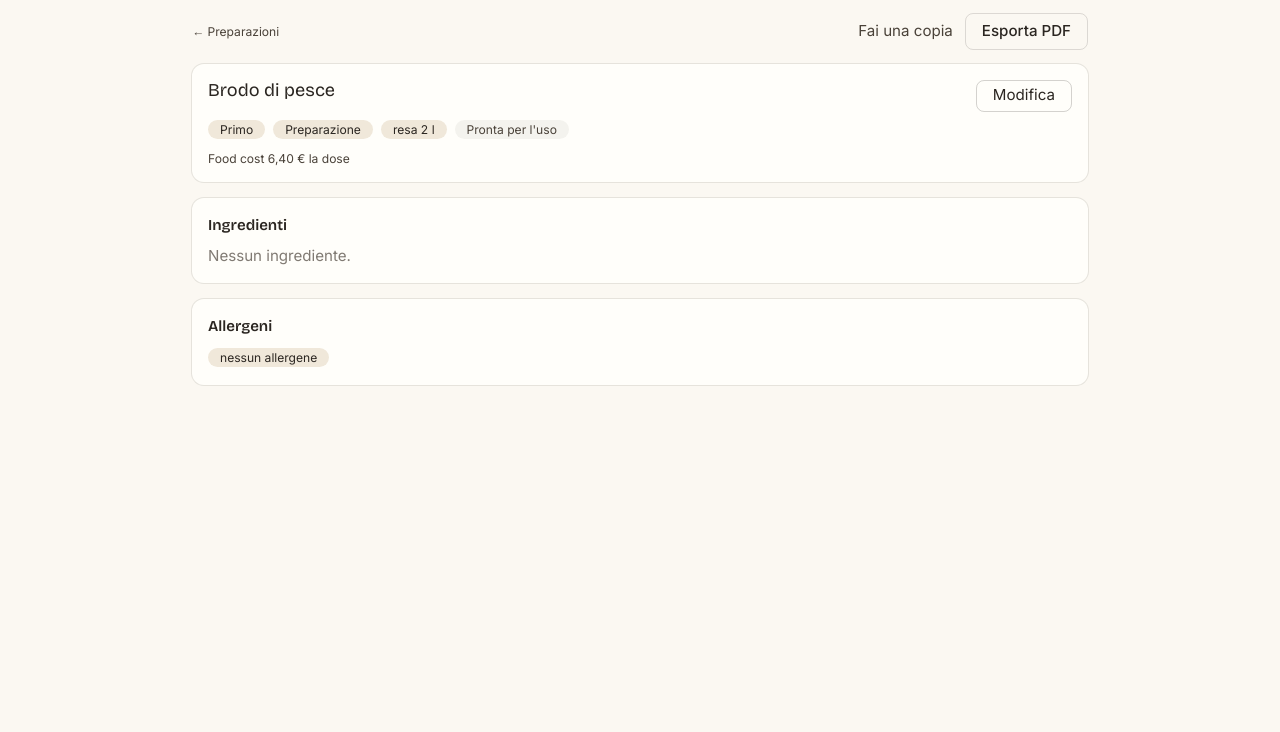
Test: 🔴 gli stati dicono che cosa è la scheda › una preparazione rimasta in un menu da prima: si capisce, e nessuno stato di carta
The image size is (1280, 732).
Click the button "Modifica" at [1024, 96], box [976,80,1072,112]
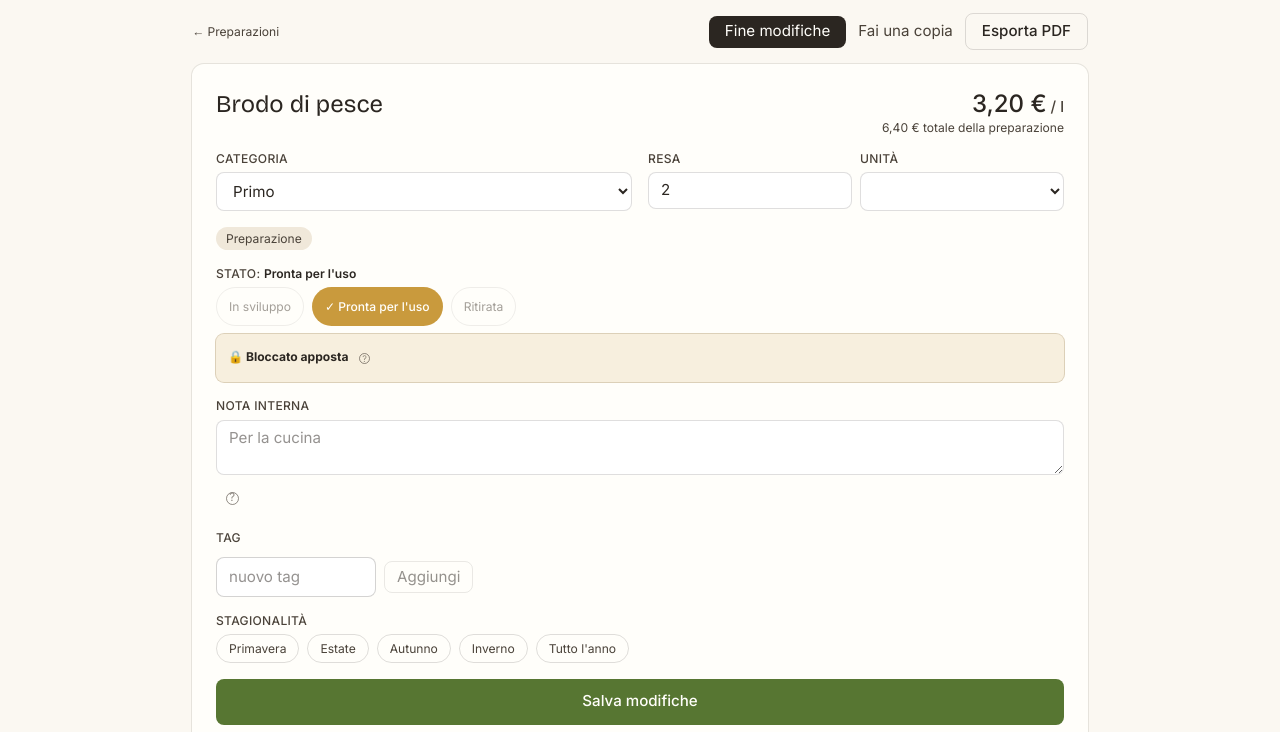
Expected: the text "Stato: Pronta per l'uso" is shown, [216,266,356,281]
Click the button "?" next to "🔒 Bloccato apposta" at [364, 358], box [348,342,380,374]
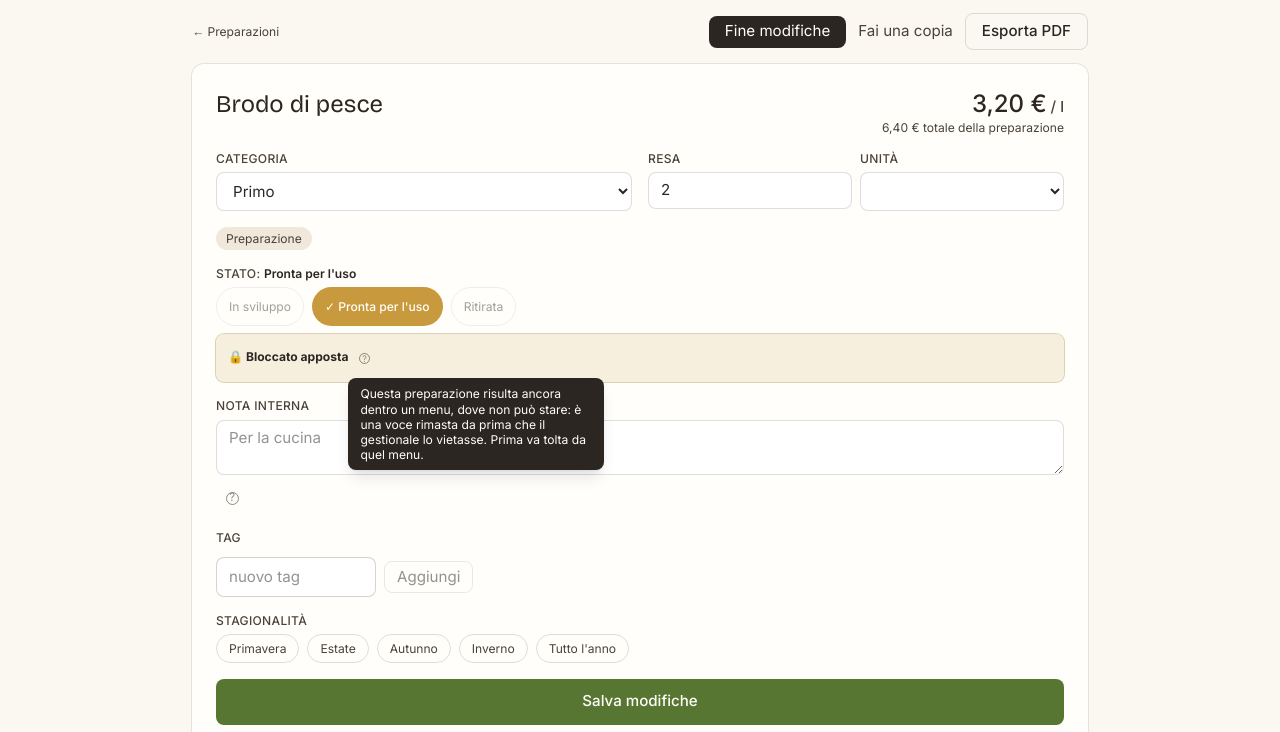
Expected: the tooltip "risulta ancora dentro un menu" is shown, [360,386,586,462]
